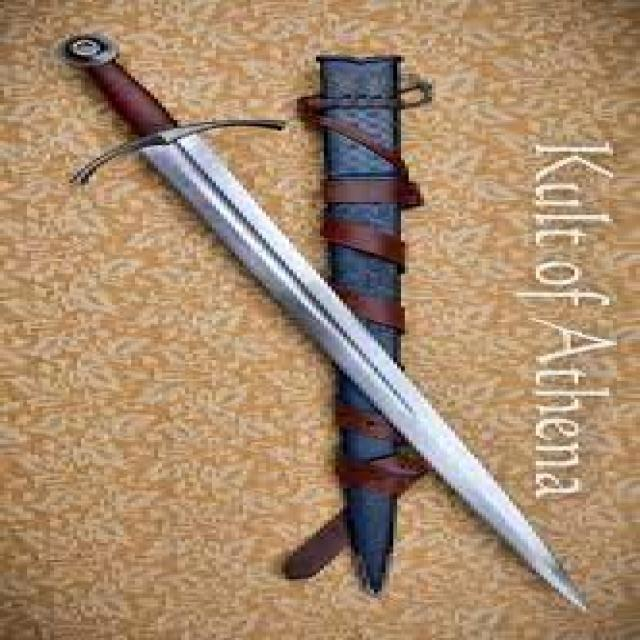sword: (57, 30, 598, 614)
